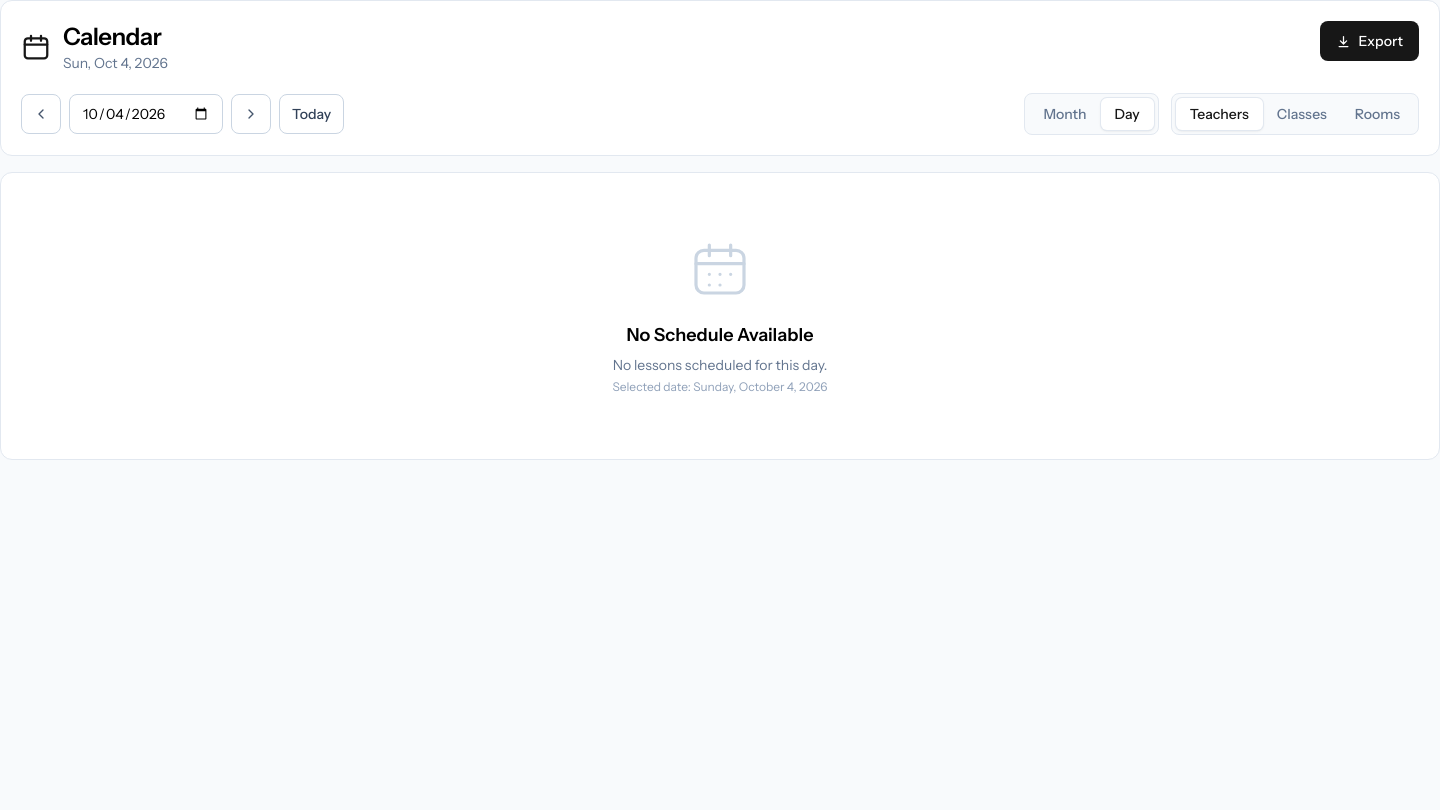
it: CalendarTab › opens a day from the month view
Click the button "Month" at (1065, 114), box [1029, 98, 1100, 130]
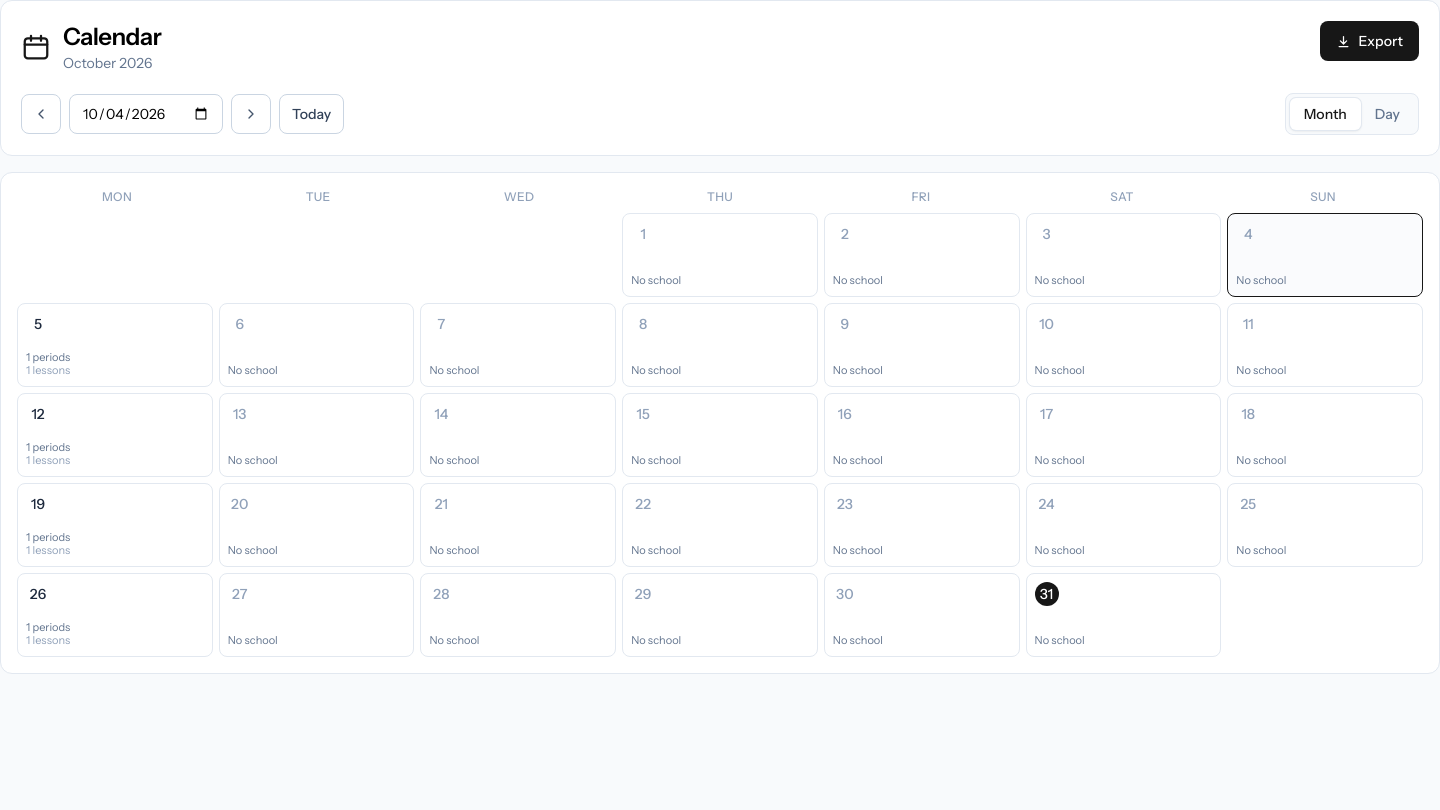
Click the button "5 1 periods 1 lessons" at (115, 345), box [17, 303, 213, 387]
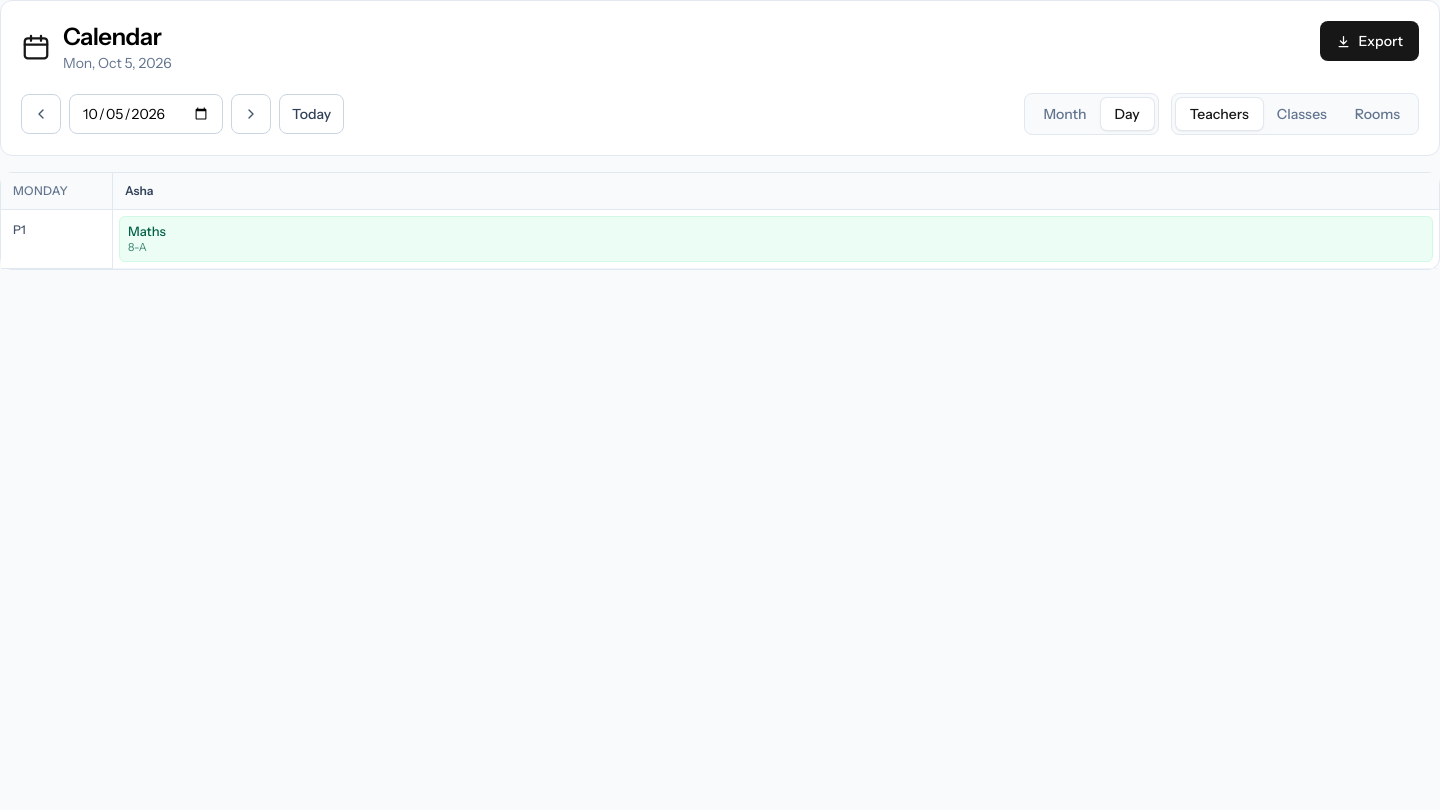
Check: the text "Maths" is shown, box [128, 223, 166, 239]
